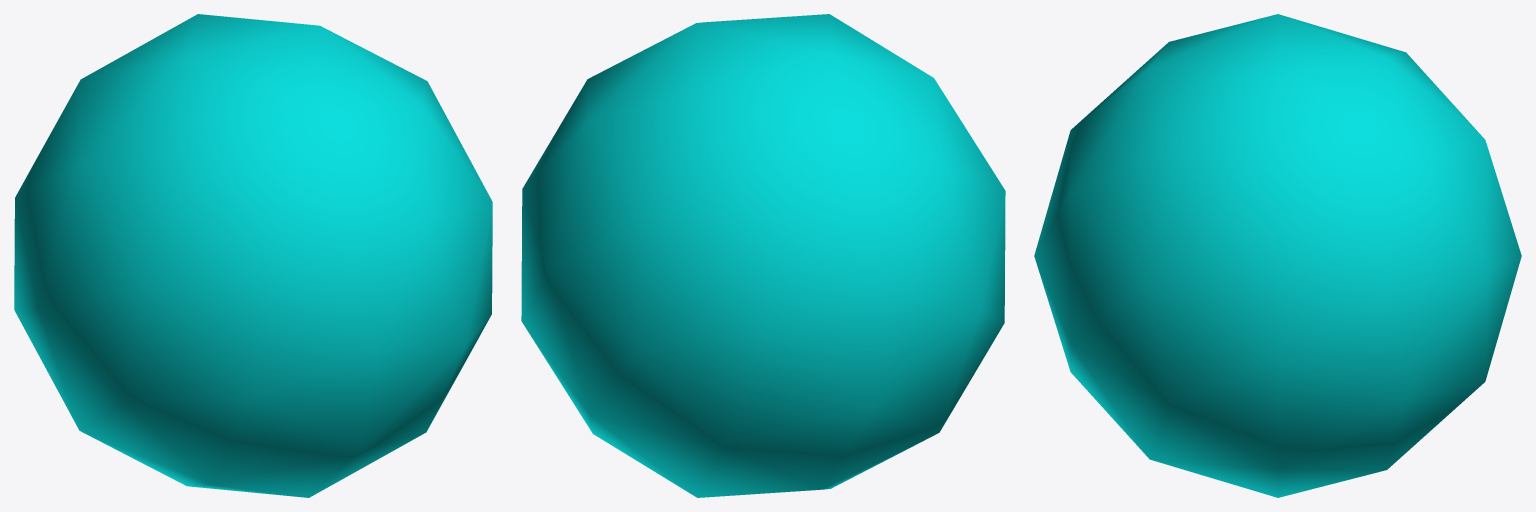
Rendered from AmoebaCore.fbx.
3 views of the same model, side by side, from view 1: azimuth 30°, elevation 25°; view 2: azimuth 150°, elevation 25°; view 3: azimuth 270°, elevation 25° (orthographic). The views are drawn at different scales.
Visible parts, largest first — view 1: merge1; view 2: merge1; view 3: merge1.
Part boxes in pixels (box(x1,y1,x2,y2)): merge1: box(14, 14, 492, 497); merge1: box(521, 14, 1005, 497); merge1: box(1034, 14, 1521, 497).
Size of the model in its own units: 1 by 0.9511 by 1.
